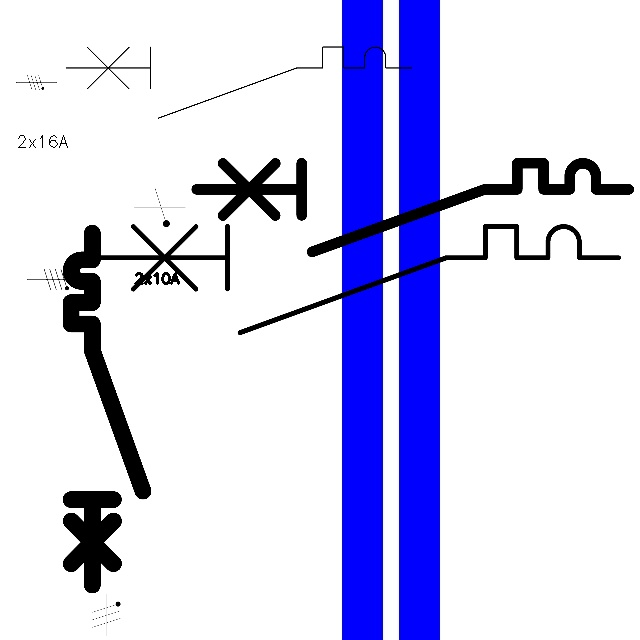interruptor_termomagnetico: (88, 213, 632, 346), (185, 152, 640, 263), (62, 224, 152, 594), (57, 38, 420, 127)
